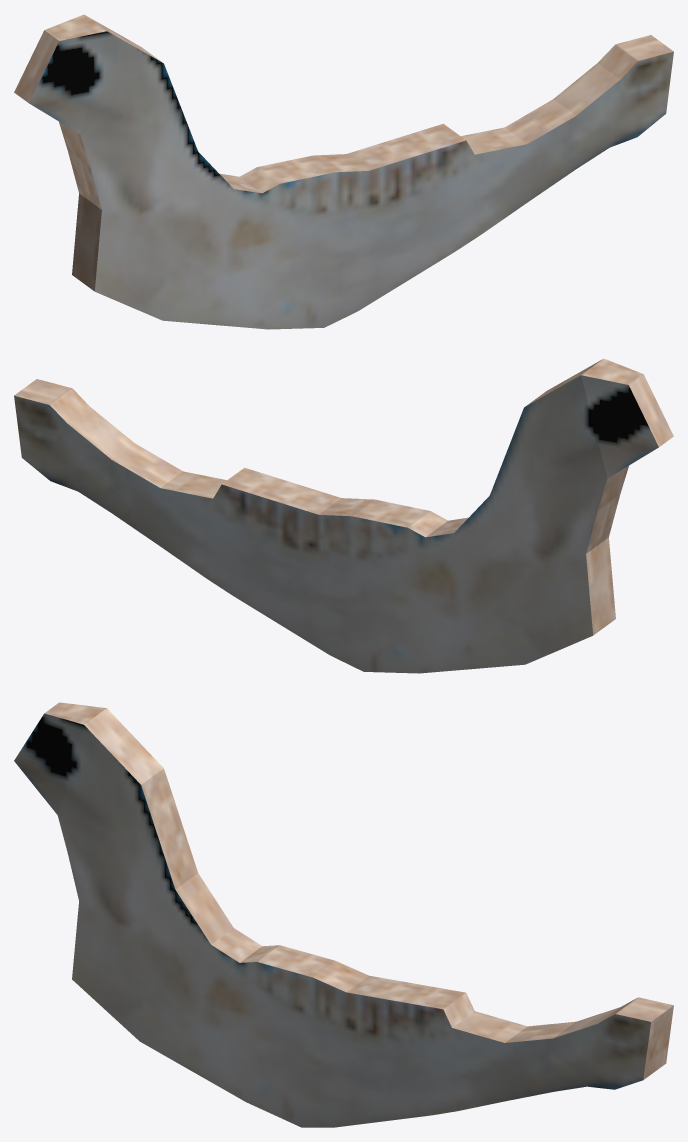
The model's file is Jawbone.fbx.
3 renders of one model, top to bottom at view 1: azimuth 30°, elevation 25°; view 2: azimuth 150°, elevation 25°; view 3: azimuth 330°, elevation 25°, orthographic.
Visible parts, largest first — view 1: pCube1; view 2: pCube1; view 3: pCube1.
Part boxes in pixels (box(x1,y1,x2,y2)): pCube1: box(14, 14, 673, 329); pCube1: box(14, 358, 673, 673); pCube1: box(14, 702, 673, 1127).
Bounding box in the file's own units: 6.92 × 3.61 × 0.4274.
1 material, 1 textured.
